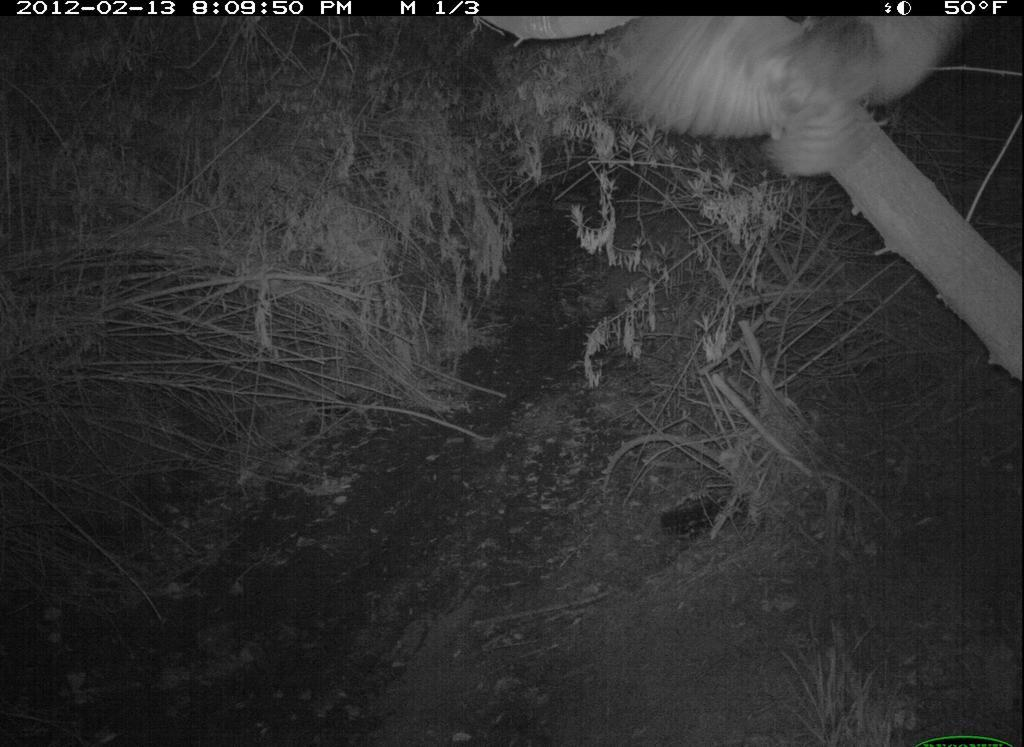bird: (599, 12, 973, 193)
